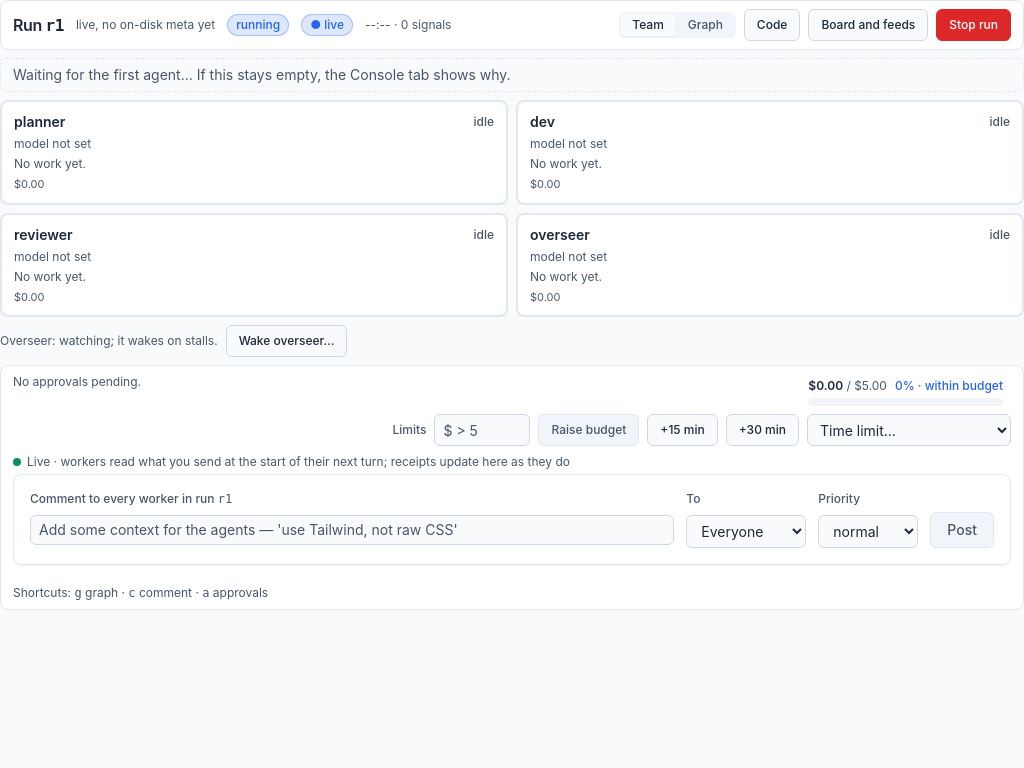
it: CockpitView › narrow layout puts the panels in a drawer
What coordinates should you click on to do the following:
click the button "Board and feeds"
I would click on:
 (868, 25)
Its box is [808,9,928,41].
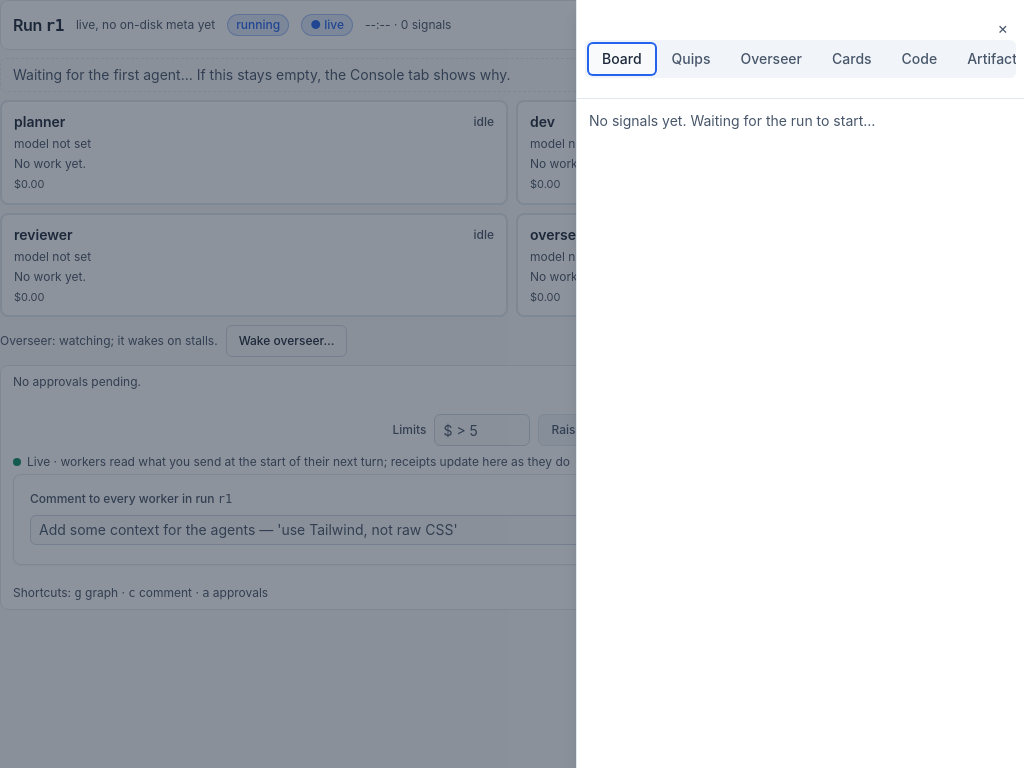
Check: the tab "Board" is shown, box [589,44,654,74]
